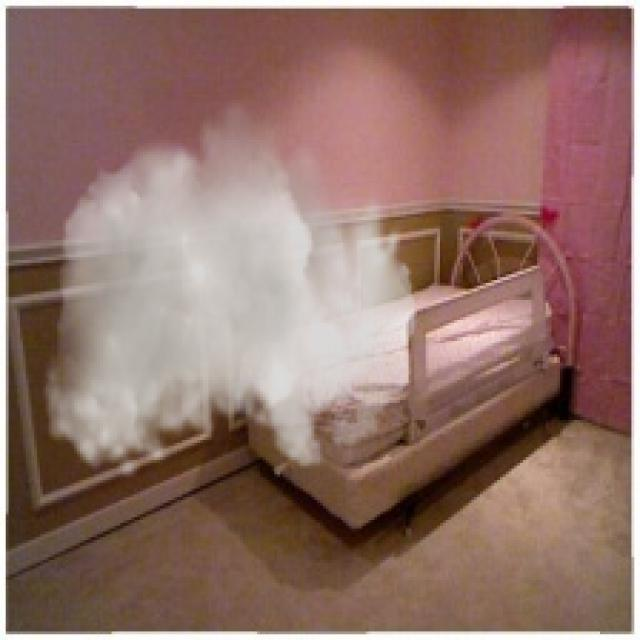Smoke: (42, 91, 418, 480)
